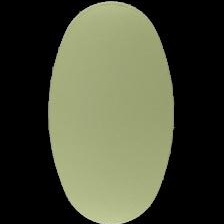50268-515: (0, 0, 224, 224)
